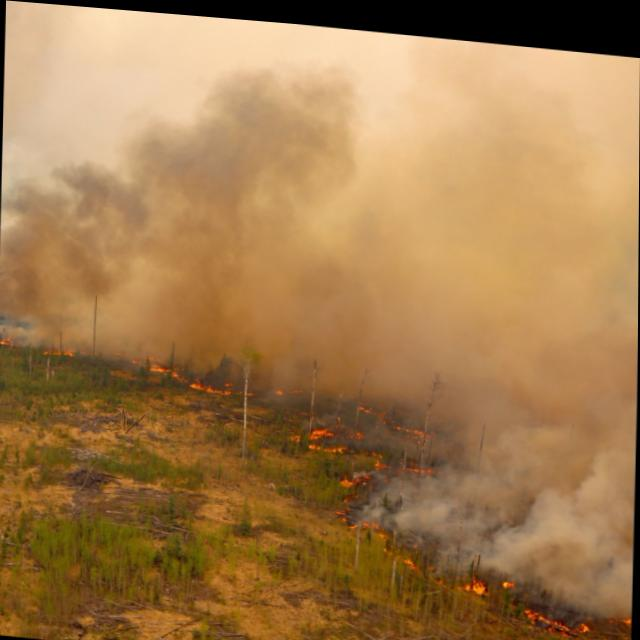Fire: (298, 382, 637, 631), (130, 347, 270, 398), (0, 297, 87, 361)
